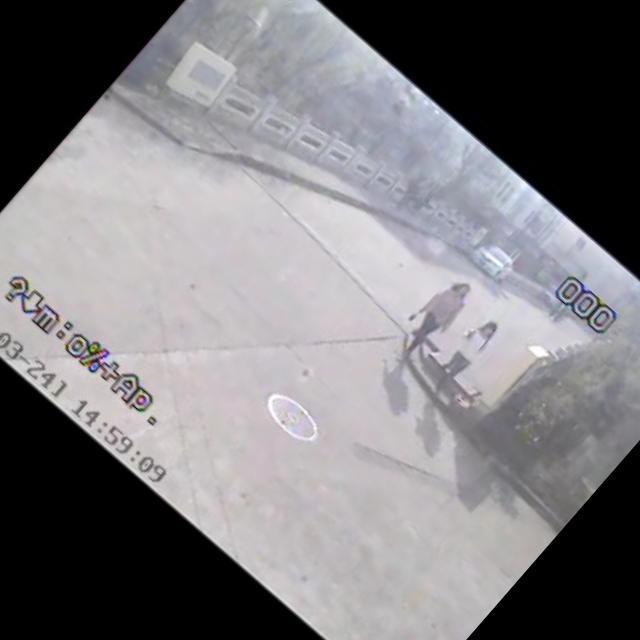person: (385, 268, 479, 368), (413, 306, 508, 404), (389, 172, 432, 218), (542, 296, 572, 328)
